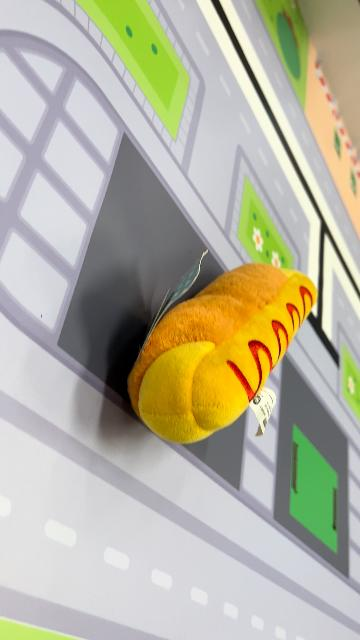hotdog: (127, 261, 320, 447)
